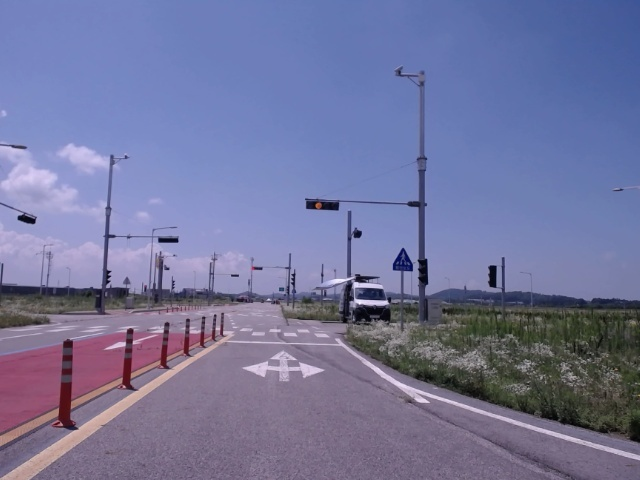orange_4: (304, 198, 339, 210)
